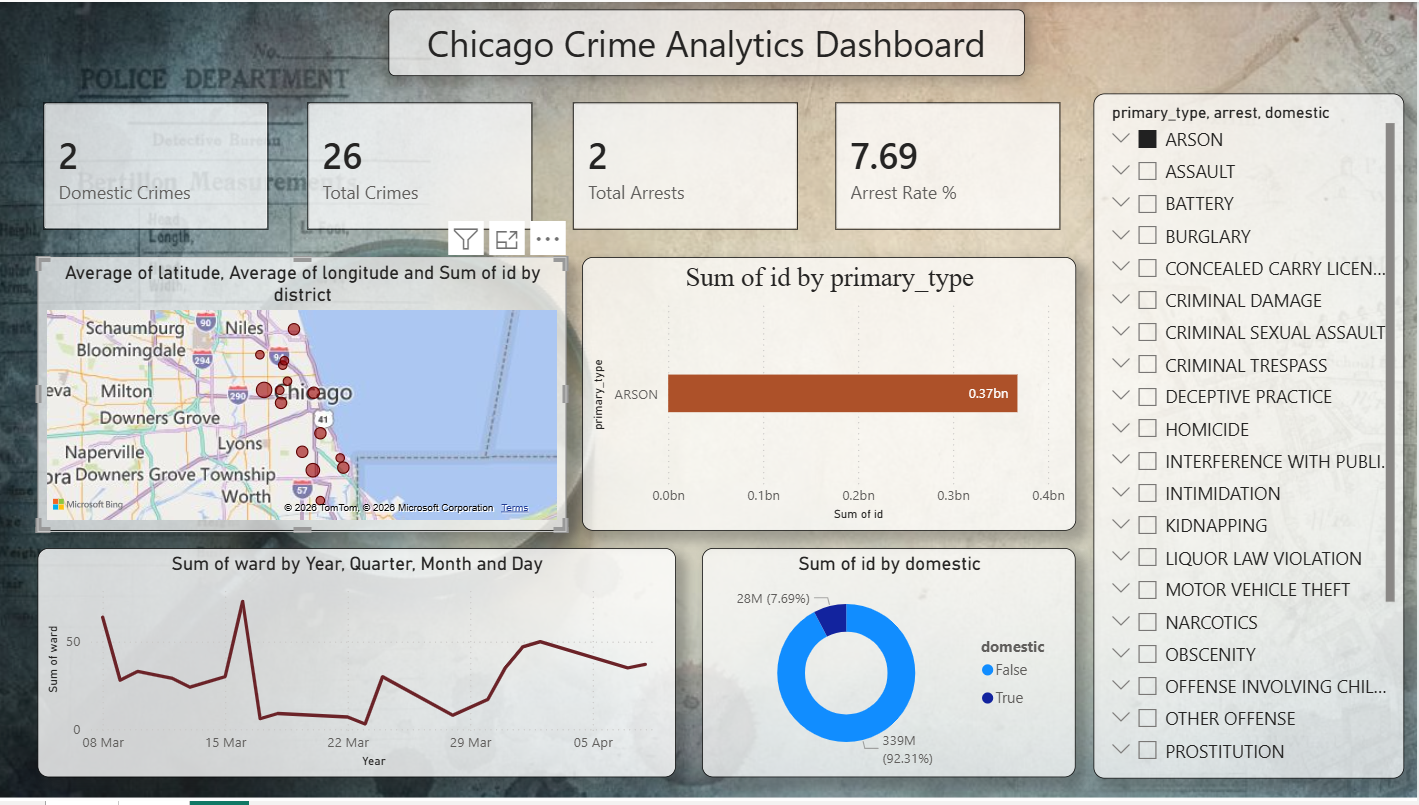

This screenshot's page, from the dashboard's own definition file:
{"tool":"powerbi","page":{"name":"A","canvas":[1280,720],"ordinal":0},"visuals":[{"type":"textbox","box":[353.3,6.7,573.3,60],"z":0},{"type":"cardVisual","fields":{"Data":["Crime_Dataset.Domestic Crimes"]},"box":[36.7,85,213.3,125],"z":1000},{"type":"slicer","title":"Crime by Category","fields":{"Values":["ijzp-q8t2.primary_type","ijzp-q8t2.arrest","ijzp-q8t2.domestic"]},"box":[988.6,82.9,280,617.1],"z":2000},{"type":"map","fields":{"Category":["ijzp-q8t2.district"],"Size":["Sum(ijzp-q8t2.id)"],"Y":["Avg(ijzp-q8t2.latitude)"],"X":["Avg(ijzp-q8t2.longitude)"]},"box":[36.7,230,476.7,246.7],"z":3000},{"type":"lineChart","fields":{"Y":["Sum(Crime_Dataset.ward)"],"Category":["Crime_Dataset.date.Variation.Date Hierarchy.Year","Crime_Dataset.date.Variation.Date Hierarchy.Quarter","Crime_Dataset.date.Variation.Date Hierarchy.Month","Crime_Dataset.date.Variation.Date Hierarchy.Day"]},"box":[36.7,491.7,575,206.7],"z":4000},{"type":"donutChart","fields":{"Category":["ijzp-q8t2.domestic"],"Y":["Sum(ijzp-q8t2.id)"]},"box":[635,491.7,336.7,206.7],"z":5000},{"type":"clusteredBarChart","fields":{"Category":["ijzp-q8t2.primary_type"],"Y":["Sum(ijzp-q8t2.id)"]},"box":[526.7,230,445,246.7],"z":6000},{"type":"cardVisual","fields":{"Data":["Crime_Dataset.Total Crimes"]},"box":[275,85,213.3,125],"z":7000},{"type":"cardVisual","fields":{"Data":["Crime_Dataset.Total Arrests"]},"box":[513.3,85,213.3,125],"z":8000},{"type":"cardVisual","fields":{"Data":["Crime_Dataset.Arrest Rate %"]},"box":[750,85,213.3,125],"z":9000}]}

Visuals, with their boxes in screenshot pixels (x1, y1, x2, y2), scaled from the page's 1280x720 canvas onto the 1419x805 screenshot:
textbox: <bbox>392, 7, 1027, 75</bbox>
cardVisual - Crime_Dataset.Domestic Crimes: <bbox>41, 95, 277, 235</bbox>
"Crime by Category" slicer: <bbox>1096, 93, 1406, 783</bbox>
map - ijzp-q8t2.district x Sum(ijzp-q8t2.id): <bbox>41, 257, 569, 533</bbox>
lineChart - Sum(Crime_Dataset.ward) x Crime_Dataset.date.Variation.Date Hierarchy.Year: <bbox>41, 550, 678, 781</bbox>
donutChart - ijzp-q8t2.domestic x Sum(ijzp-q8t2.id): <bbox>704, 550, 1077, 781</bbox>
clusteredBarChart - ijzp-q8t2.primary_type x Sum(ijzp-q8t2.id): <bbox>584, 257, 1077, 533</bbox>
cardVisual - Crime_Dataset.Total Crimes: <bbox>305, 95, 541, 235</bbox>
cardVisual - Crime_Dataset.Total Arrests: <bbox>569, 95, 806, 235</bbox>
cardVisual - Crime_Dataset.Arrest Rate %: <bbox>831, 95, 1068, 235</bbox>
